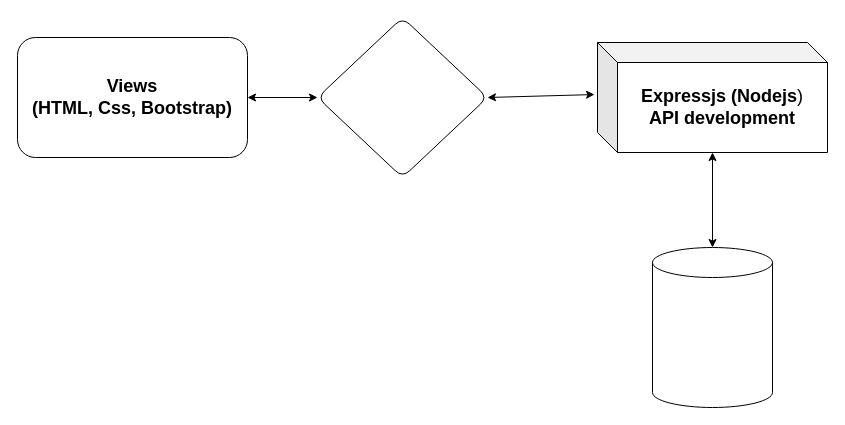
Image size: 845x425. Some labels were removed from this diagram. The box of each missing label's shape, as (x1, y1, x2, y2) in pixels:
Ajax (for API calls): (316, 16, 488, 178)
MySQL Database: (652, 246, 772, 408)
